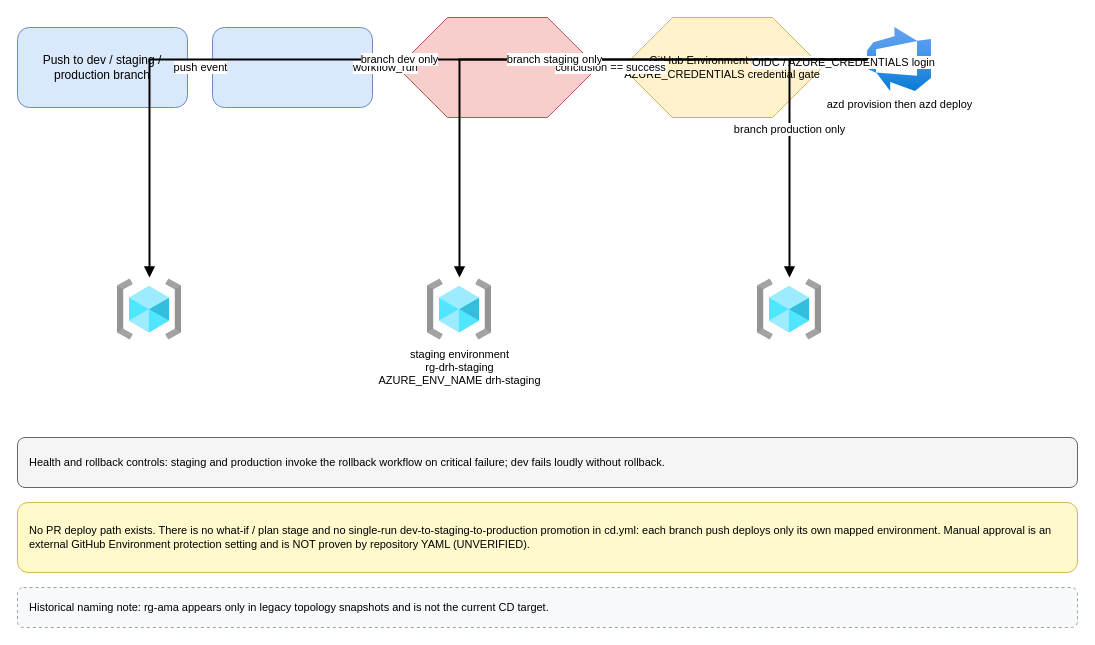
The diagram is 1095 pixels wide and 645 high, and some of its shapes have lost their labels. Each missing label, with the box of its shape:
cd.yml workflow_run gate runs only when upstream ci concludes success: (396, 16, 598, 118)
ci.yml quality gate lint, tests, docs-arch: (212, 26, 372, 108)
dev environment rg-drh-dev AZURE_ENV_NAME drh-dev: (117, 277, 181, 341)
production environment rg-drh-production AZURE_ENV_NAME drh-production: (757, 277, 821, 341)
